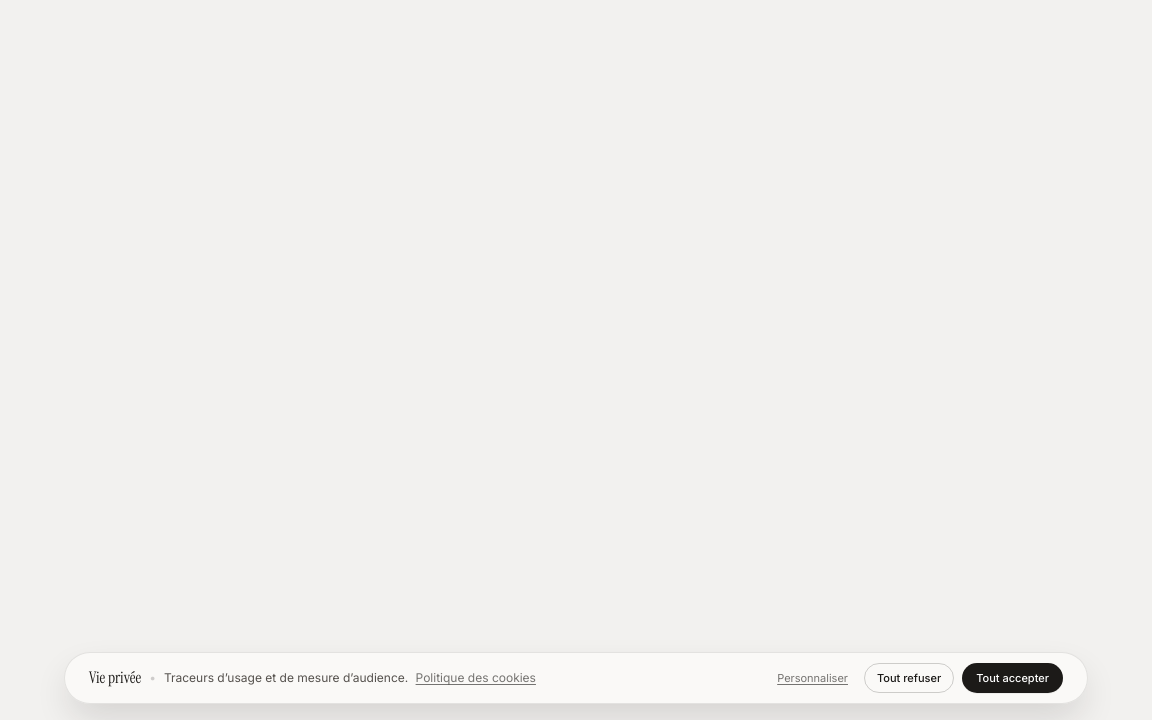
Test: CookieBanner et gestionnaire de consentement › ouvre le centre de préférences au clic sur « Personnaliser »
Click the button "Personnaliser". click: (813, 678)
box: [769,666,856,690]
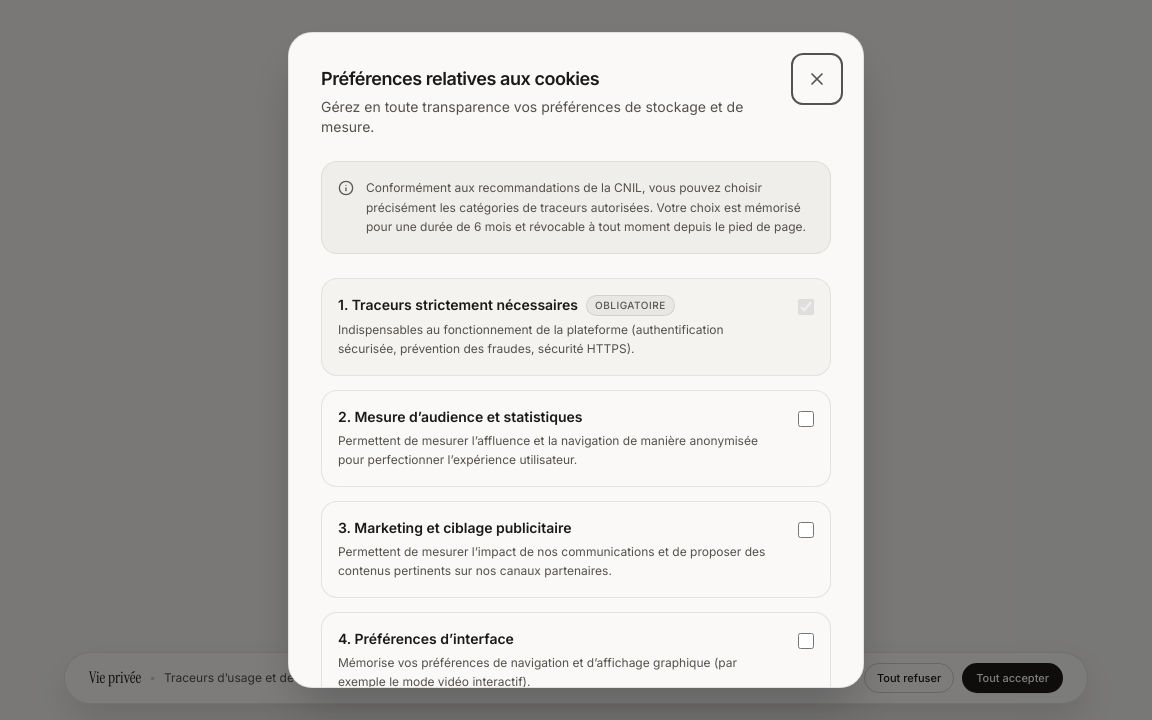
Result: the heading "Préférences relatives aux cookies" is shown at [321,68,599,89]
